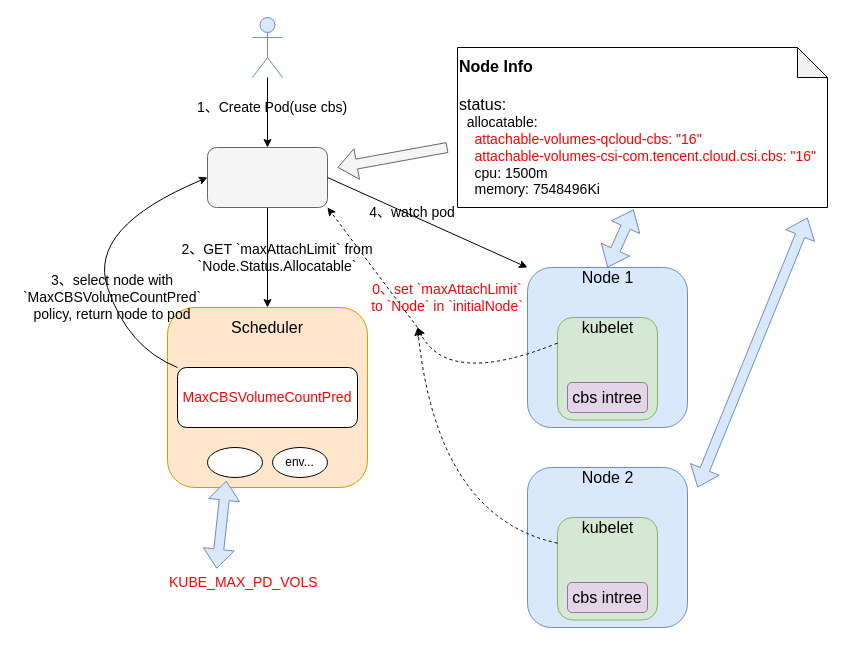
Image size: 845x645. Some labels were removed from this diagram. Each missing label, with the box of its shape:
API Server: (206, 146, 328, 208)
env1: (206, 446, 262, 478)
